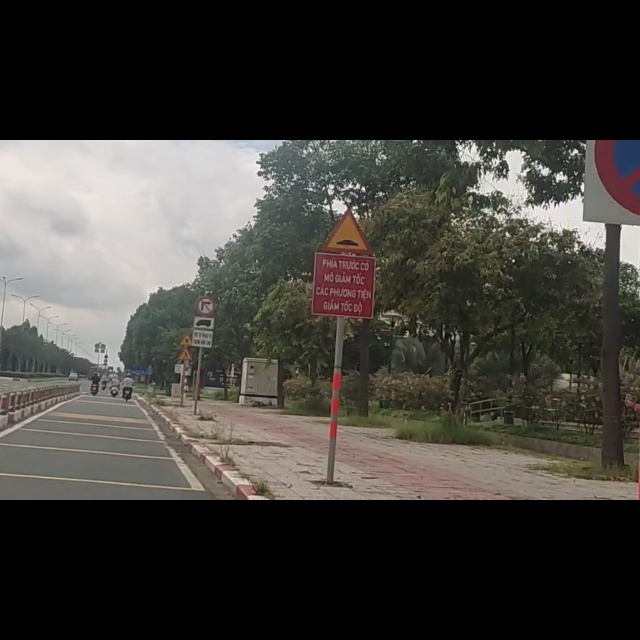bien_cam: (321, 116, 375, 203), (192, 312, 214, 371), (196, 279, 215, 311), (178, 370, 193, 392), (179, 347, 193, 366)
